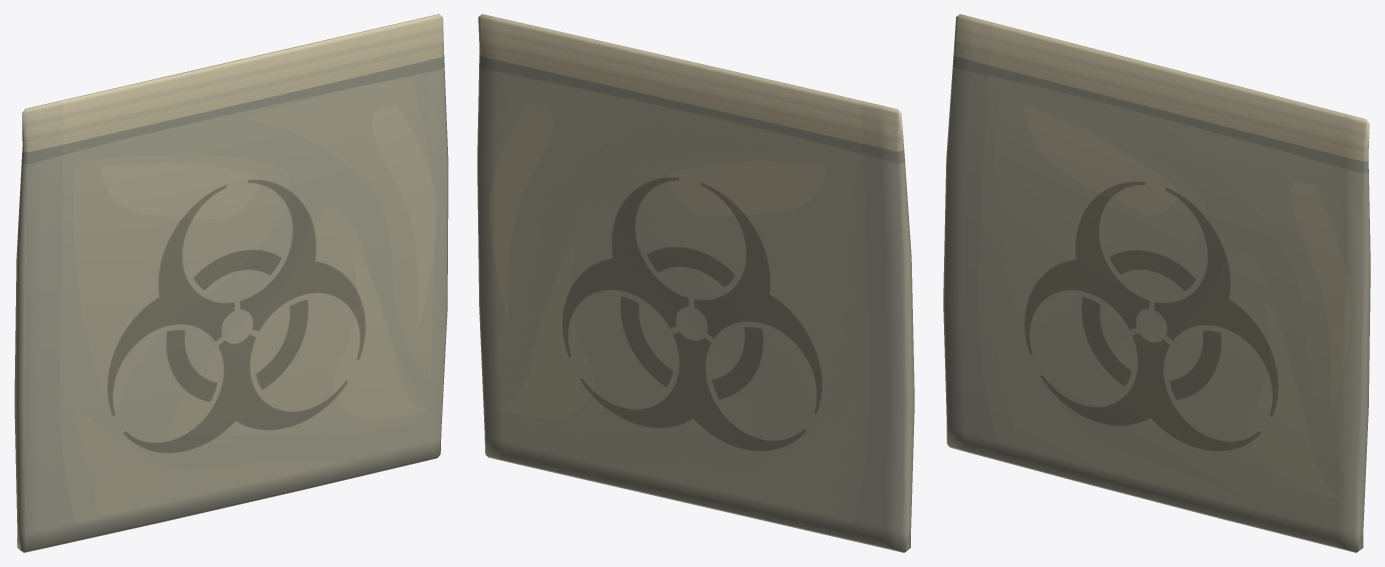
The model's file is grip-seal-bag.glb.
3 views of the same model, side by side, from view 1: azimuth 30°, elevation 25°; view 2: azimuth 150°, elevation 25°; view 3: azimuth 330°, elevation 25° (orthographic). The views are drawn at different scales.
Parts seen in each view (by area): view 1: Bag; view 2: Bag; view 3: Bag.
Boxes of the visible parts, <box> form: Bag: <box>14,14,448,552</box>; Bag: <box>477,14,914,552</box>; Bag: <box>943,14,1370,552</box>.
Size of the model in its own units: 0.2049 by 0.2028 by 0.00821.
Materials: 1 (1 with a texture image).
